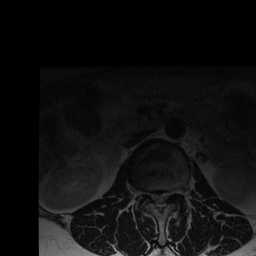CCS_normal: (157, 185, 163, 214)
LFS_stenosis: (170, 183, 177, 200)
LLS_stenosis: (163, 184, 169, 207)
RFS_severe_stenosis: (143, 185, 150, 203)
RLS_stenosis: (150, 187, 156, 208)
